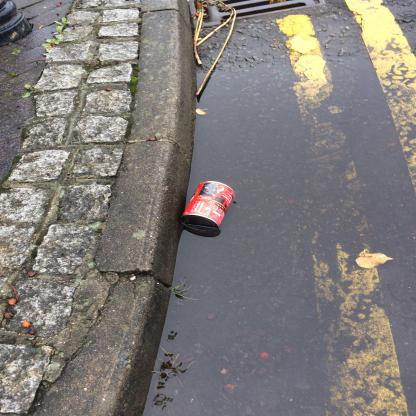metal: (181, 180, 236, 234)
